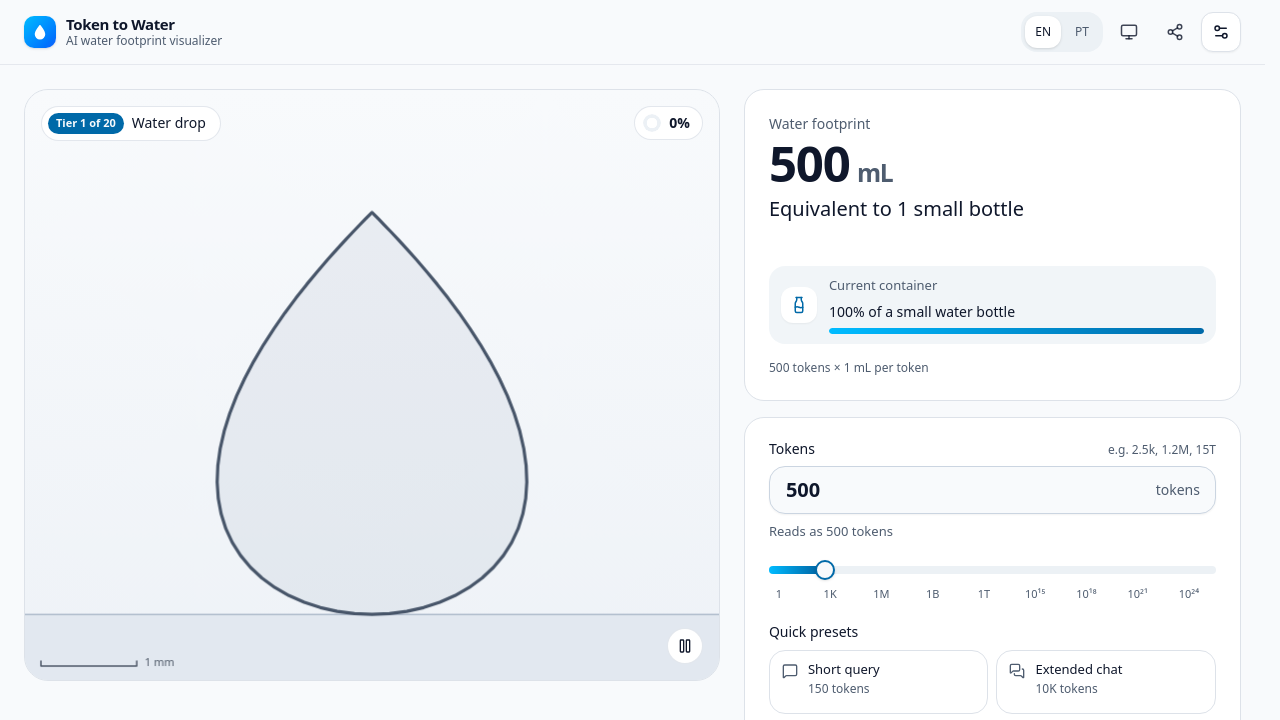
Test case: App › switches to Brazilian Portuguese and remembers it
Click the radio button with aria-label "Português (Brasil)" at (1082, 32), box [1065,16,1099,48]
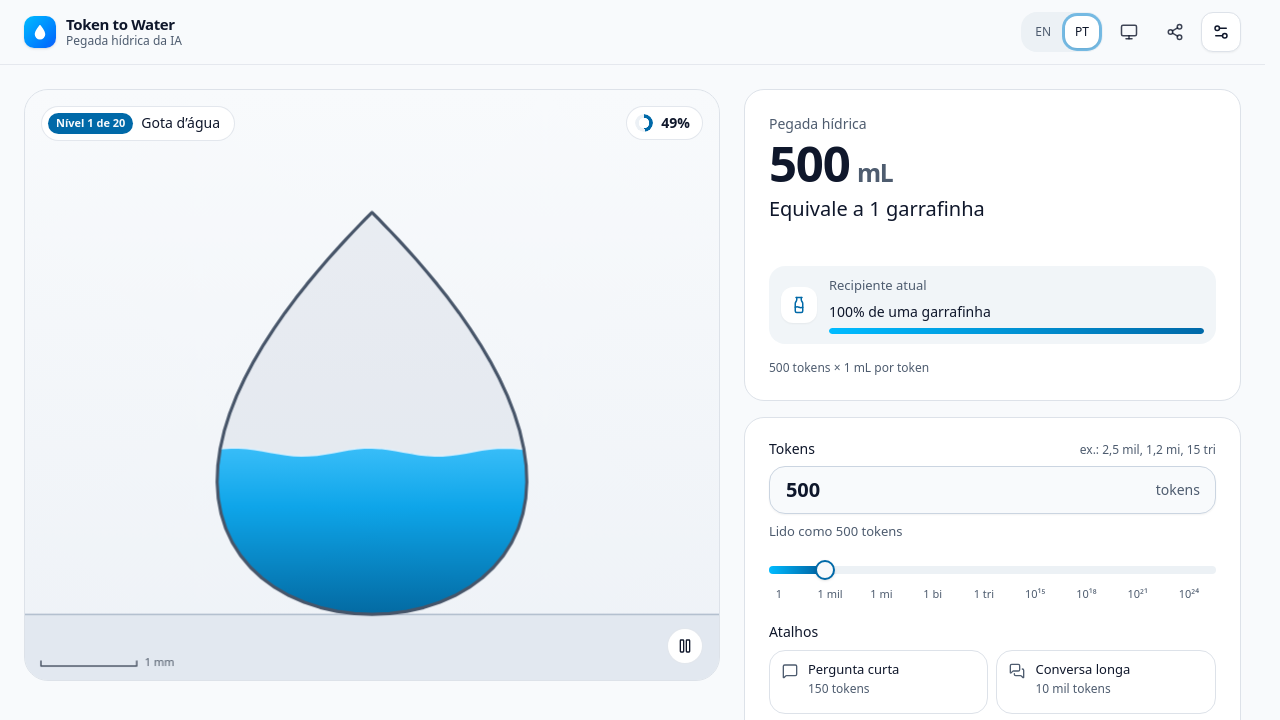
Expected: the field labelled "Tokens" is shown, [769,466,1216,514]
Now the text with test id "equivalence" reads "Equivale a 1 garrafinha", box [769,195,985,222]
